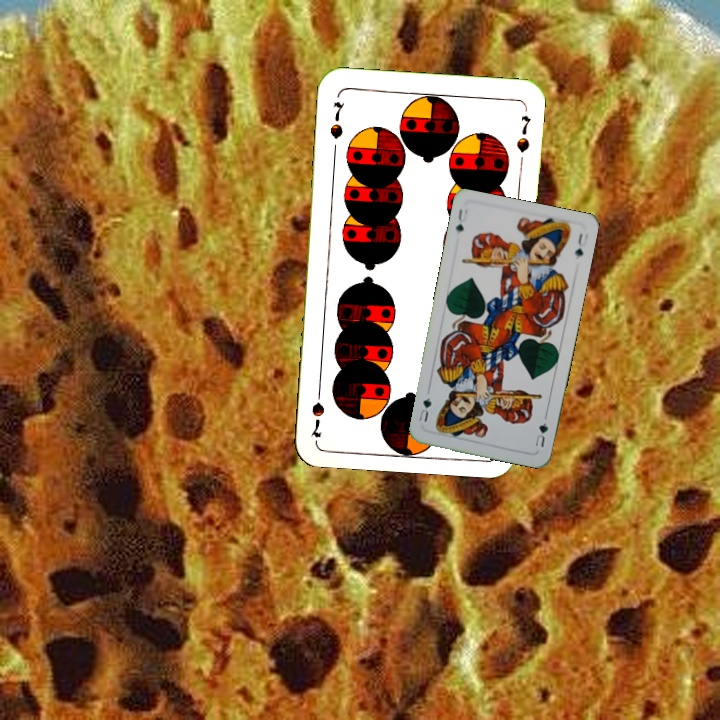GU: (531, 418, 551, 450), (452, 205, 470, 234)
S7: (325, 98, 347, 142)
